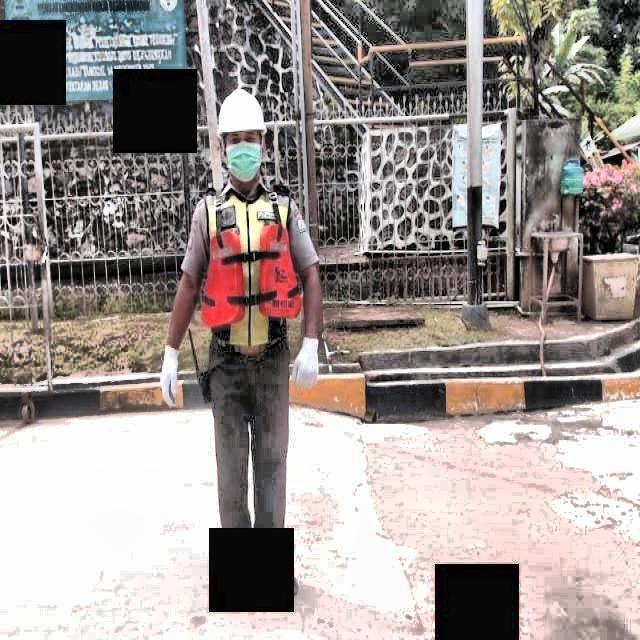safety_helmet: (212, 88, 271, 135)
safety_jacket: (202, 188, 301, 349)
